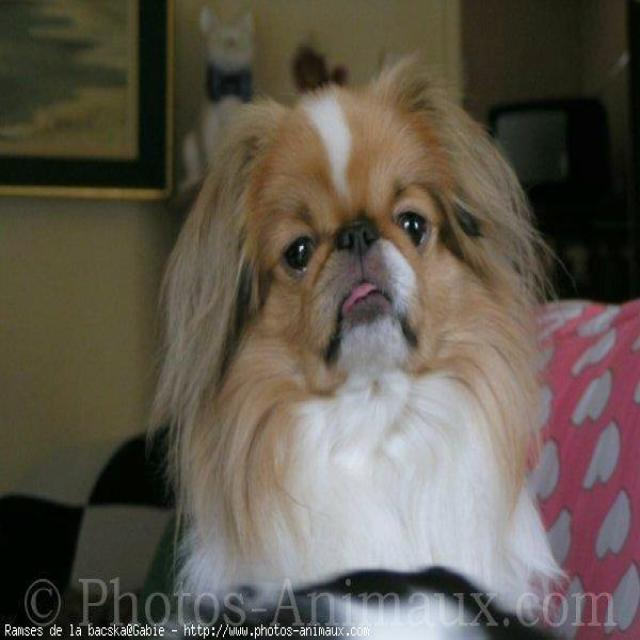husky: (148, 51, 566, 637)
